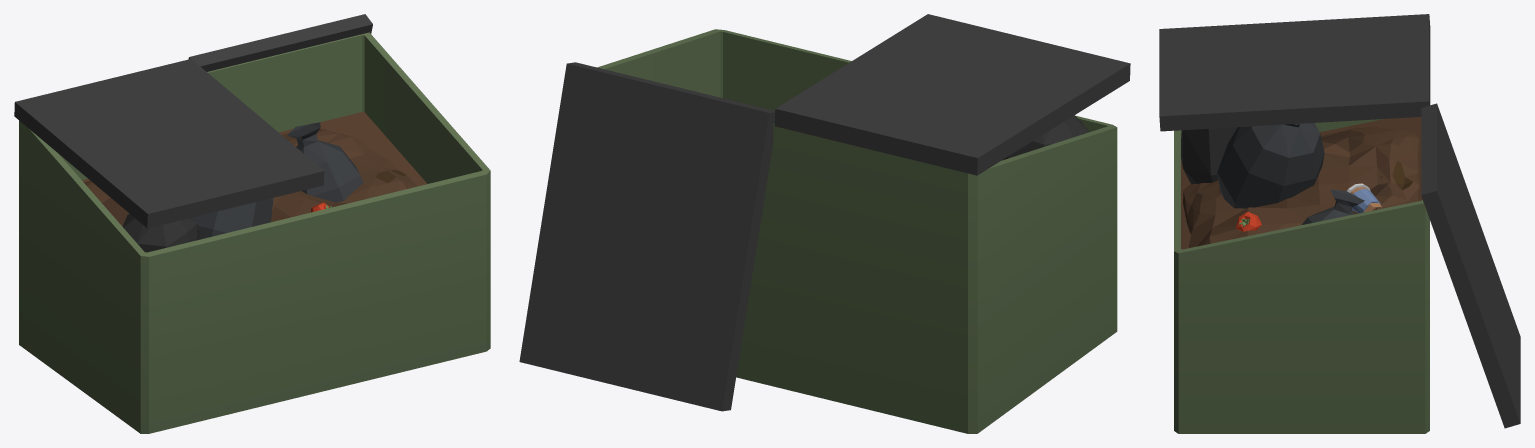
The model's file is Trash_01.glb.
The picture shows the model from 3 angles, left to right: view 1: azimuth 30°, elevation 25°; view 2: azimuth 150°, elevation 25°; view 3: azimuth 270°, elevation 25°; orthographic projection. The views are drawn at different scales.
Parts seen in each view (by area): view 1: Trash_01; view 2: Trash_01; view 3: Trash_01.
Boxes of the visible parts, left/top/right/bottom form: Trash_01: left=14, top=14, right=490, bottom=433; Trash_01: left=519, top=14, right=1130, bottom=433; Trash_01: left=1159, top=14, right=1520, bottom=433.
Bounding box in the file's own units: 1.62 × 1.06 × 1.41.
1 material, 1 textured.
